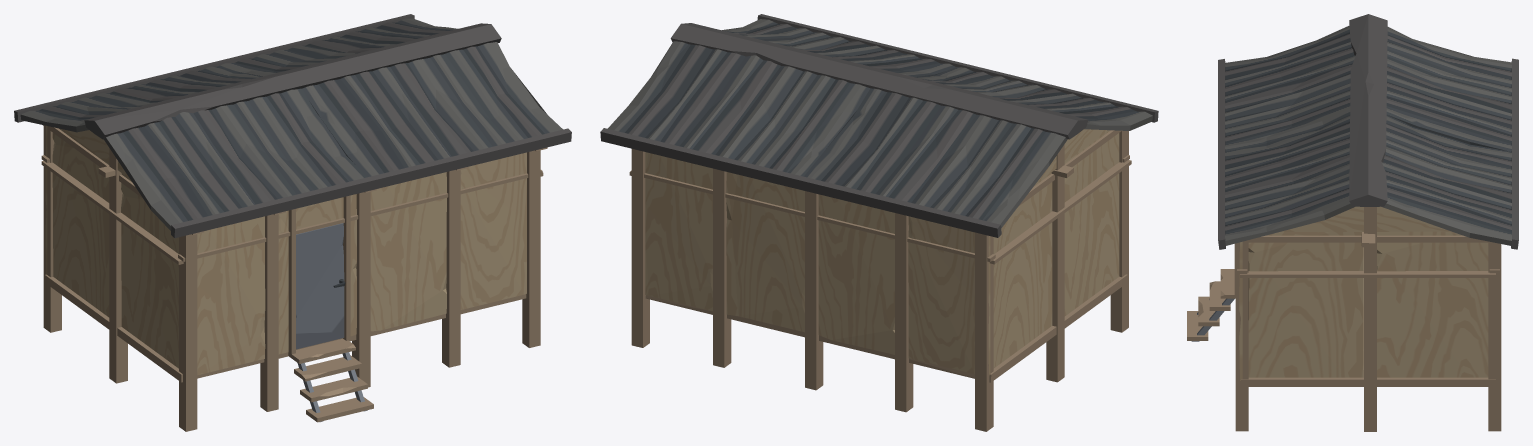
The model's file is SM_Bld_Plywood_Shed_01.fbx.
3 views of the same model, side by side, from view 1: azimuth 30°, elevation 25°; view 2: azimuth 150°, elevation 25°; view 3: azimuth 270°, elevation 25° (orthographic). The views are drawn at different scales.
Parts seen in each view (by area): view 1: SM_Bld_Plywood_Shed_01, SM_Bld_Plywood_Shed_Door_01; view 2: SM_Bld_Plywood_Shed_01; view 3: SM_Bld_Plywood_Shed_01.
Part boxes in pixels (x1,y1,x2,y2): SM_Bld_Plywood_Shed_01: (14, 14, 571, 431); SM_Bld_Plywood_Shed_Door_01: (296, 223, 345, 349); SM_Bld_Plywood_Shed_01: (600, 14, 1158, 431); SM_Bld_Plywood_Shed_01: (1187, 14, 1518, 431).
Bounding box in the file's own units: 807 × 513 × 625.
